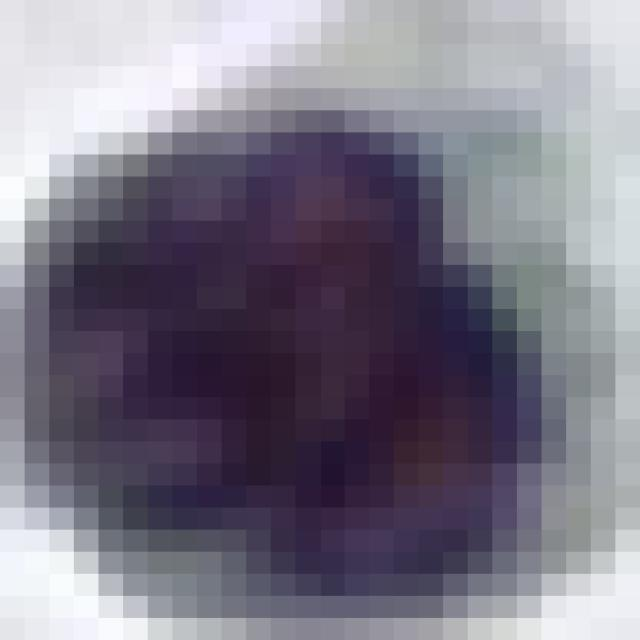cytoplasm: (0, 2, 625, 637)
nucleus: (0, 34, 631, 640)
